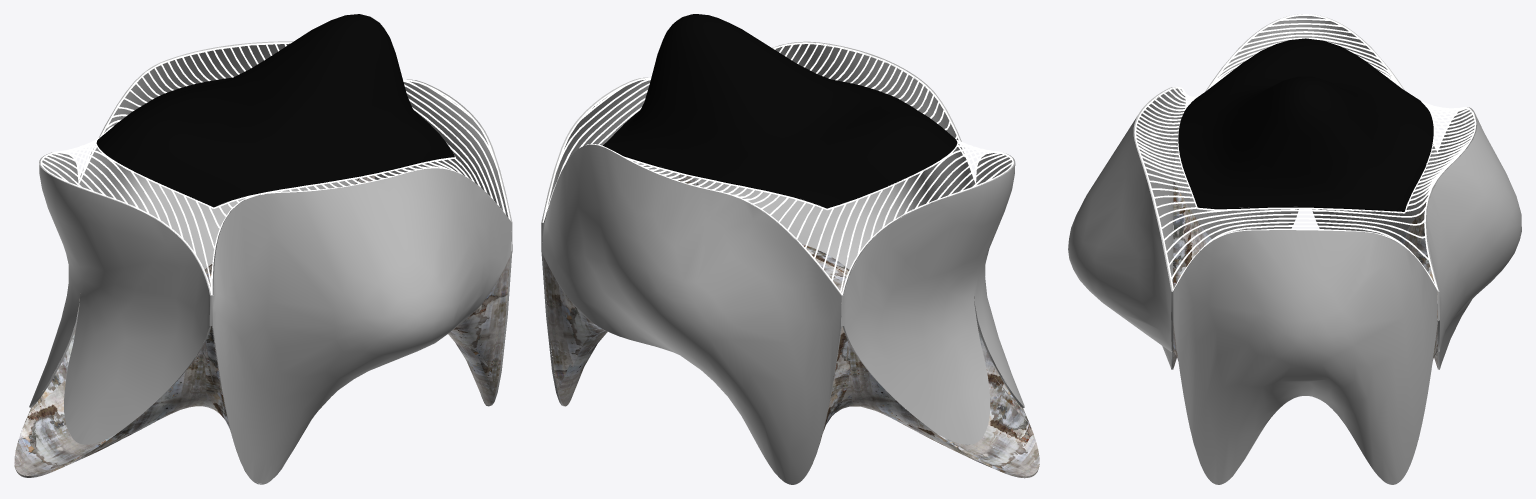
The model's file is Elephant Pavillion.glb.
3 views of the same model, side by side, from view 1: azimuth 30°, elevation 25°; view 2: azimuth 150°, elevation 25°; view 3: azimuth 270°, elevation 25° (orthographic). The views are drawn at different scales.
Visible parts, largest first — view 1: Facade, Rppf, Floor, P0, P4; view 2: Facade, Rppf, Floor, P0, P4; view 3: Facade, Rppf, P0, Floor, P4.
Part boxes in pixels (x1,y1,x2,y2): Facade: (29, 41, 512, 484); Rppf: (96, 14, 454, 207); Floor: (14, 175, 509, 483); P0: (41, 43, 505, 284); P4: (40, 42, 510, 294); Facade: (541, 41, 1024, 484); Rppf: (603, 14, 957, 208); Floor: (543, 174, 1039, 478); P0: (555, 43, 1012, 292); P4: (542, 42, 1013, 294); Facade: (1068, 14, 1521, 484); Rppf: (1178, 38, 1433, 211); P0: (1136, 18, 1474, 279); Floor: (1173, 181, 1437, 368); P4: (1134, 14, 1476, 290).
Size of the model in its own units: 12.68 by 9.65 by 10.98.
Materials: 5 (1 with a texture image).
